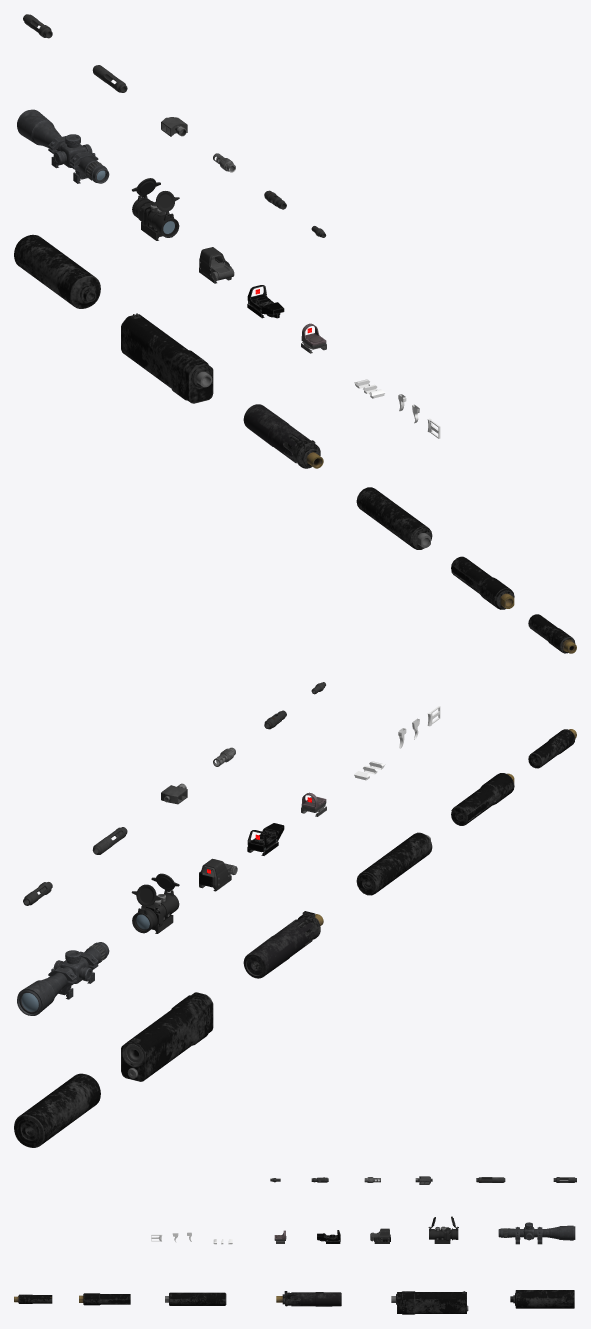
File: weapon_accessories.glb
3 renders of one model, top to bottom at view 1: azimuth 30°, elevation 25°; view 2: azimuth 150°, elevation 25°; view 3: azimuth 270°, elevation 25°, orthographic. The views are drawn at different scales.
Visible parts, largest first — view 1: Silencer 4, Silencer Shotgun, Scope 3.001, Silencer 3, Silencer 2, Scope 1, Silencer 1, Silencer Mini, Sight 3; view 2: Silencer 4, Silencer Shotgun, Scope 3.001, Silencer 3, Silencer 2, Scope 1, Silencer 1, Silencer Mini, Sight 3, Sight 2; view 3: Silencer 4, Silencer Shotgun, Scope 3.001, Silencer 3, Silencer 2, Silencer 1, Scope 1, Silencer Mini, Sight 3, Sight 2.
Boxes of the visible parts, <box> form: Silencer 4: <box>121,313,213,403</box>; Silencer Shotgun: <box>14,234,100,308</box>; Scope 3.001: <box>17,109,109,183</box>; Silencer 3: <box>243,404,323,468</box>; Silencer 2: <box>356,487,432,549</box>; Scope 1: <box>132,178,179,240</box>; Silencer 1: <box>451,556,514,609</box>; Silencer Mini: <box>528,614,576,653</box>; Sight 3: <box>199,247,234,283</box>; Silencer 4: <box>121,992,213,1081</box>; Silencer Shotgun: <box>14,1073,100,1147</box>; Scope 3.001: <box>17,942,109,1015</box>; Silencer 3: <box>243,911,323,978</box>; Silencer 2: <box>356,832,432,895</box>; Scope 1: <box>131,873,179,933</box>; Silencer 1: <box>451,773,514,825</box>; Silencer Mini: <box>528,729,576,768</box>; Sight 3: <box>199,858,237,891</box>; Sight 2: <box>247,823,284,855</box>; Silencer 4: <box>391,1291,468,1314</box>; Silencer Shotgun: <box>510,1290,574,1308</box>; Scope 3.001: <box>498,1222,575,1244</box>; Silencer 3: <box>276,1291,341,1306</box>; Silencer 2: <box>165,1292,226,1305</box>; Silencer 1: <box>79,1293,130,1305</box>; Scope 1: <box>428,1216,458,1243</box>; Silencer Mini: <box>14,1294,52,1303</box>; Sight 3: <box>370,1228,390,1243</box>; Sight 2: <box>317,1230,340,1243</box>.
Size of the model in its own units: 0.6972 by 5.36 by 20.21.
Materials: 10 (8 with a texture image).
